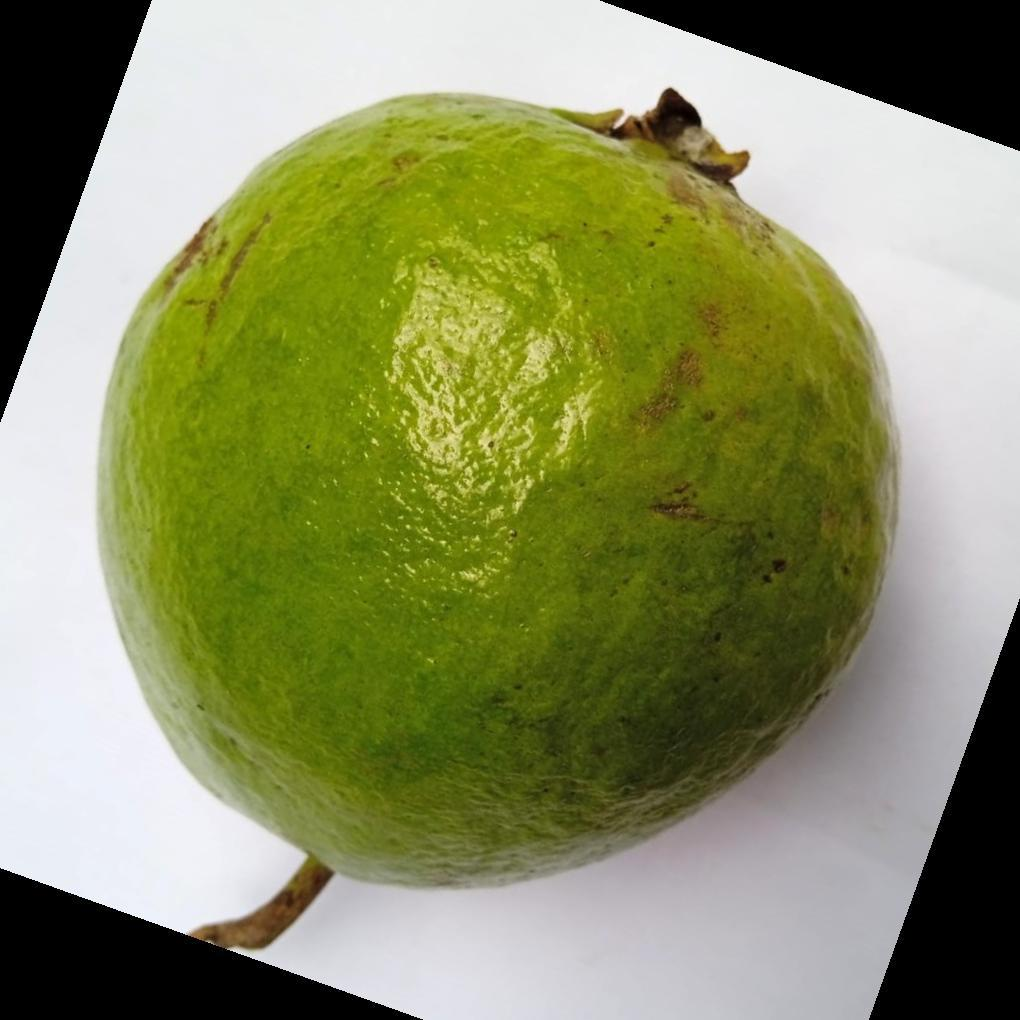FreshGuava: (95, 89, 901, 895)
